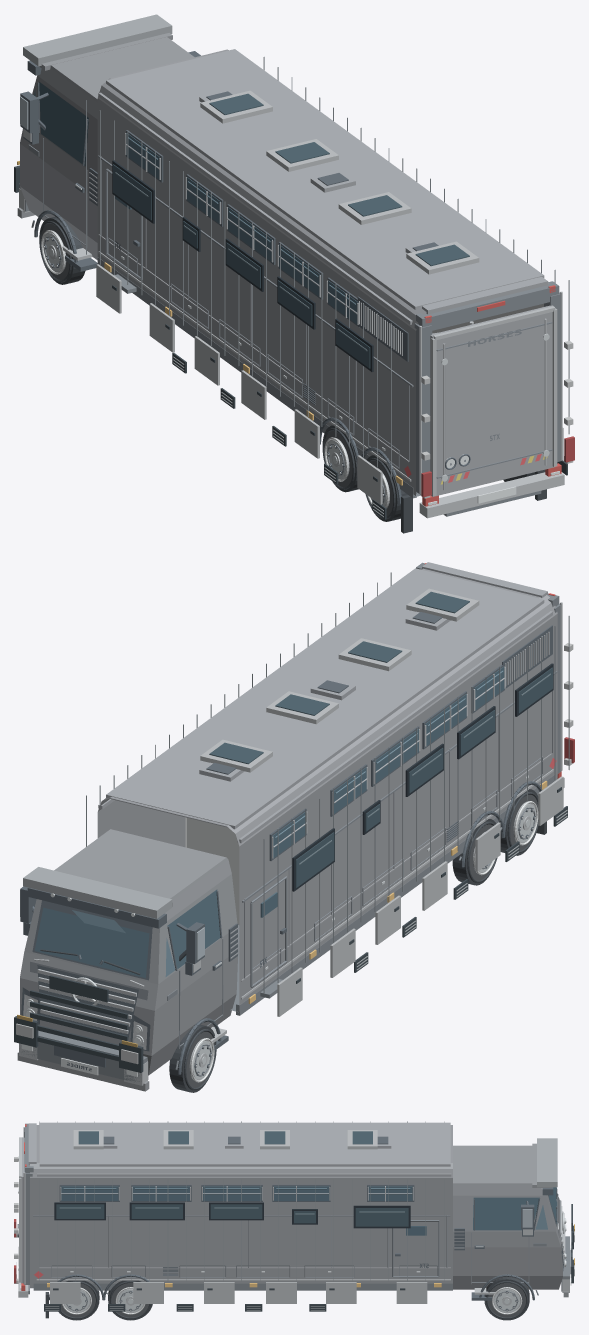
File: truck_stx.glb
The picture shows the model from 3 angles, top to bottom: view 1: azimuth 30°, elevation 25°; view 2: azimuth 150°, elevation 25°; view 3: azimuth 270°, elevation 25°; orthographic projection. The views are drawn at different scales.
Parts seen in each view (by area): view 1: static__body, static__body_light, rear_ramp__body_light, static__cab, static__body_dark, static__metal, static__glass, static__trim, rear_ramp__metal, V2_sunvisor, V2_window_glass_-1_0, V2_lower_hatch_-1_4 (+18 smaller); view 2: static__body, static__body_light, static__cab, static__trim, static__glass, static__body_dark, static__metal, V2_sunvisor, static__interior_wall, V2_window_glass_-1_0, front_left_wheel__rubber, static__glass_light (+21 smaller); view 3: static__body, static__body_light, static__cab, static__glass, static__body_dark, static__trim, static__metal, V2_sunvisor, V2_window_glass_1_0, V2_window_glass_1_2, V2_window_glass_1_3, V2_window_glass_1_4 (+31 smaller).
Boxes of the visible parts, x1,y1,x2,y2 form: static__body: (97, 49, 549, 495); static__body_light: (89, 49, 547, 461); rear_ramp__body_light: (430, 305, 554, 496); static__cab: (17, 33, 194, 260); static__body_dark: (19, 138, 561, 516); static__metal: (19, 129, 564, 518); static__glass: (39, 82, 358, 324); static__trim: (20, 51, 438, 503); rear_ramp__metal: (431, 306, 557, 496); V2_sunvisor: (23, 14, 172, 66); V2_window_glass_-1_0: (113, 164, 151, 220); V2_lower_hatch_-1_4: (294, 409, 319, 458); static__body: (97, 568, 557, 1011); static__body_light: (98, 562, 552, 981); static__cab: (17, 829, 238, 1091); static__trim: (20, 612, 552, 1074); static__glass: (34, 666, 504, 977); static__body_dark: (19, 562, 561, 1082); static__metal: (19, 602, 564, 1085); V2_sunvisor: (23, 867, 172, 918); static__interior_wall: (185, 817, 239, 924); V2_window_glass_-1_0: (295, 832, 334, 887); front_left_wheel__rubber: (169, 1024, 216, 1092); static__glass_light: (72, 670, 503, 976); static__body: (30, 1125, 452, 1287); static__body_light: (28, 1122, 464, 1268); static__cab: (453, 1143, 568, 1297); static__glass: (61, 1186, 557, 1235); static__body_dark: (24, 1123, 569, 1295); static__trim: (49, 1136, 571, 1300); static__metal: (18, 1127, 569, 1297); V2_sunvisor: (537, 1138, 557, 1187); V2_window_glass_1_0: (355, 1208, 408, 1226); V2_window_glass_1_2: (210, 1204, 262, 1218); V2_window_glass_1_3: (131, 1204, 182, 1218); V2_window_glass_1_4: (56, 1204, 104, 1218).
Bounding box in the file's own units: 3.31 × 4.12 × 13.1.
